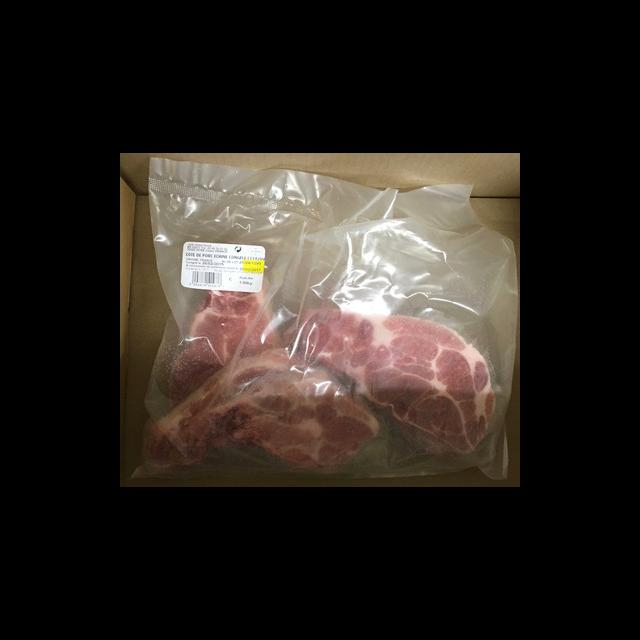beef: (294, 308, 495, 455), (139, 349, 379, 472), (167, 248, 279, 412)
